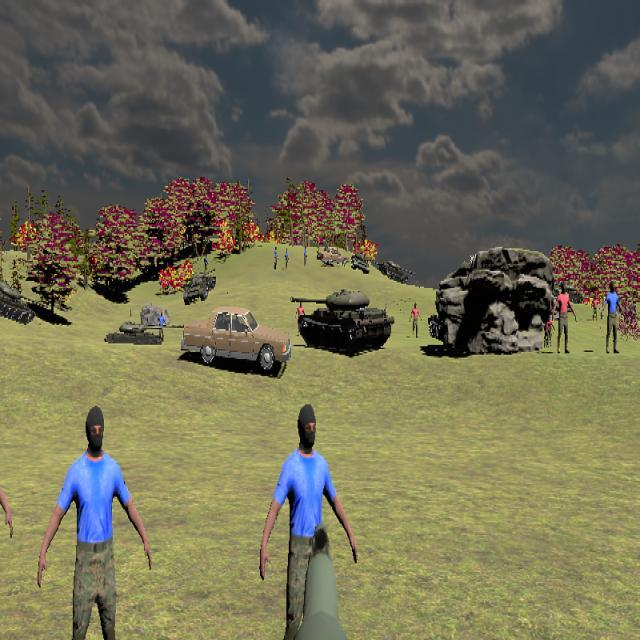Human: (38, 406, 153, 639), (259, 403, 358, 640), (552, 282, 577, 354), (601, 281, 625, 354), (409, 302, 422, 339)
Tank: (289, 288, 395, 354), (0, 280, 49, 325), (375, 259, 415, 284)
car: (181, 307, 291, 375), (317, 246, 348, 266)
